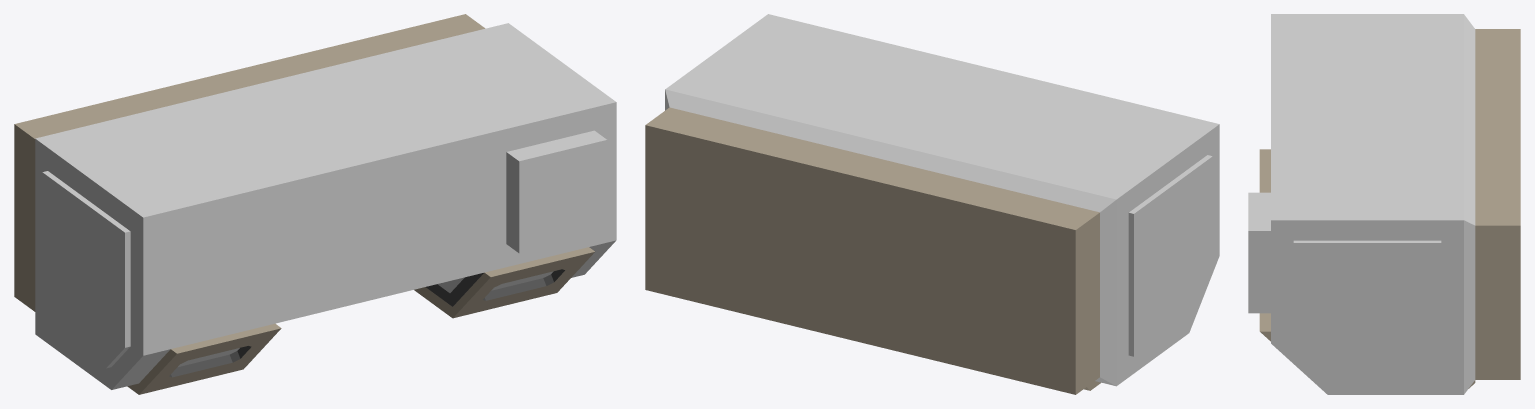
File: cnc_lathe_machine_3_state_1.dae
3 renders of one model, left to right at view 1: azimuth 30°, elevation 25°; view 2: azimuth 150°, elevation 25°; view 3: azimuth 270°, elevation 25°, orthographic. The views are drawn at different scales.
Parts seen in each view (by area): view 1: coords_ME_ID59_MA_material_8, coords_ME_ID19_MA_material_13, coords_ME_ID95_MA_material_8, coords_ME_ID83_MA_material_8, coords_ME_ID65_MA_material, coords_ME_ID41_MA_material, coords_ME_ID11_MA_material; view 2: coords_ME_ID19_MA_material_13, coords_ME_ID59_MA_material_8, coords_ME_ID95_MA_material_8; view 3: coords_ME_ID59_MA_material_8, coords_ME_ID3_MA_material_8, coords_ME_ID19_MA_material_13, coords_ME_ID83_MA_material_8.
Boxes of the visible parts, left/top/right/bottom form: coords_ME_ID59_MA_material_8: left=35, top=23, right=616, bottom=389; coords_ME_ID19_MA_material_13: left=14, top=14, right=594, bottom=394; coords_ME_ID95_MA_material_8: left=42, top=171, right=130, bottom=368; coords_ME_ID83_MA_material_8: left=506, top=130, right=607, bottom=253; coords_ME_ID65_MA_material: left=169, top=346, right=251, bottom=377; coords_ME_ID41_MA_material: left=483, top=269, right=564, bottom=300; coords_ME_ID11_MA_material: left=426, top=273, right=483, bottom=306; coords_ME_ID19_MA_material_13: left=645, top=107, right=1100, bottom=394; coords_ME_ID59_MA_material_8: left=665, top=14, right=1219, bottom=386; coords_ME_ID95_MA_material_8: left=1128, top=155, right=1212, bottom=356; coords_ME_ID59_MA_material_8: left=1271, top=14, right=1475, bottom=394; coords_ME_ID3_MA_material_8: left=1293, top=240, right=1441, bottom=376; coords_ME_ID19_MA_material_13: left=1259, top=29, right=1520, bottom=388; coords_ME_ID83_MA_material_8: left=1248, top=192, right=1270, bottom=313.
Bounding box in the file's own units: 41.57 × 17.48 × 22.68.
